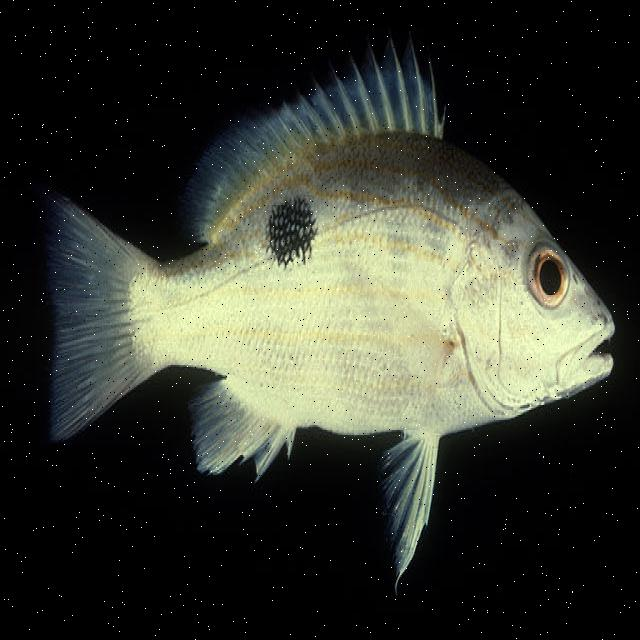ikan: (42, 31, 617, 594)
